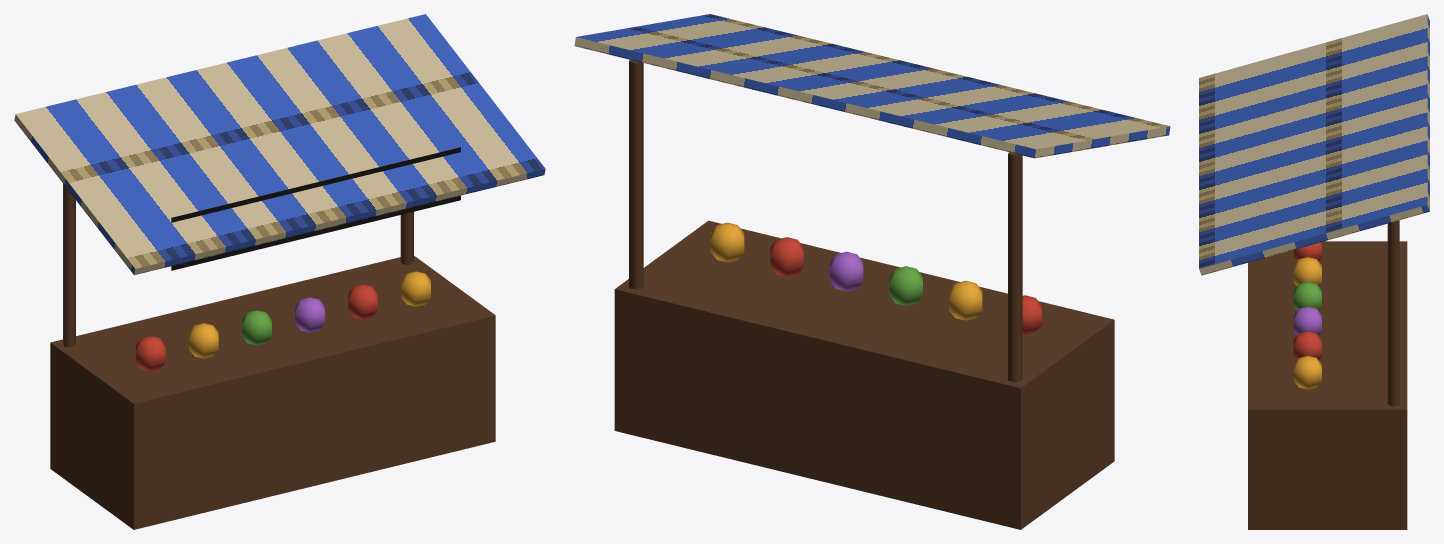
Rendered from Stand_4.glb.
3 views of the same model, side by side, from view 1: azimuth 30°, elevation 25°; view 2: azimuth 150°, elevation 25°; view 3: azimuth 270°, elevation 25° (orthographic). The views are drawn at different scales.
Parts seen in each view (by area): view 1: Stand_4; view 2: Stand_4; view 3: Stand_4.
Boxes of the visible parts, <box> form: Stand_4: <box>14,14,545,529</box>; Stand_4: <box>574,14,1170,529</box>; Stand_4: <box>1199,14,1429,529</box>.
Size of the model in its own units: 3.4 by 2.79 by 1.74.
9 materials, 2 textured.
